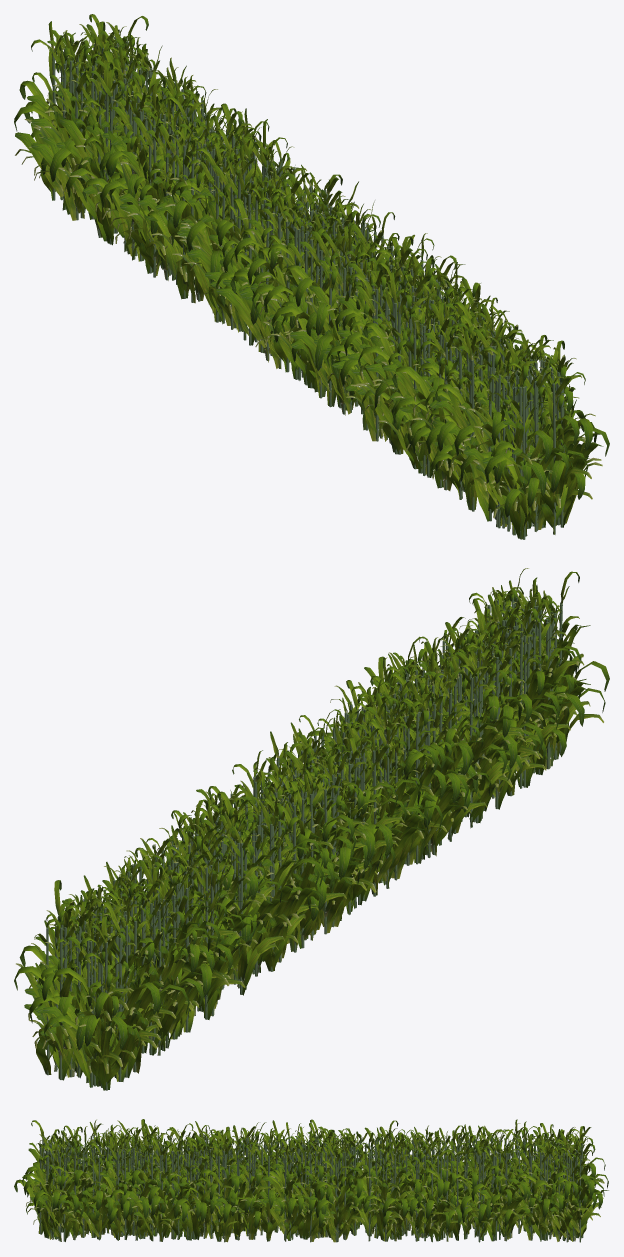
Rendered from milharal4x50_denso3.fbx.
3 renders of one model, top to bottom at view 1: azimuth 30°, elevation 25°; view 2: azimuth 150°, elevation 25°; view 3: azimuth 270°, elevation 25°, orthographic. The views are drawn at different scales.
Visible parts, largest first — view 1: Plantacao2; view 2: Plantacao2; view 3: Plantacao2.
Boxes of the visible parts, <box> form: Plantacao2: <box>14,14,609,539</box>; Plantacao2: <box>14,568,609,1090</box>; Plantacao2: <box>14,1119,608,1242</box>.
Size of the model in its own units: 932 by 1065 by 5469.
